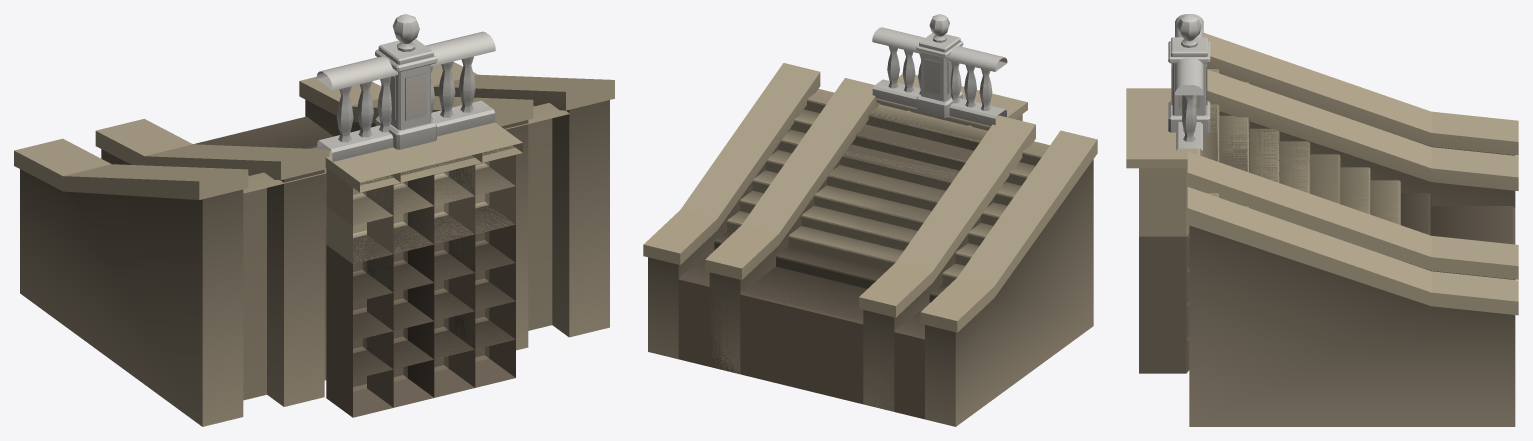
File: kit_embankment.glb
The picture shows the model from 3 angles, left to right: view 1: azimuth 30°, elevation 25°; view 2: azimuth 150°, elevation 25°; view 3: azimuth 270°, elevation 25°; orthographic projection. The views are drawn at different scales.
Visible parts, largest first — view 1: stair_flight_4m, quay_wall_2m, stair_flight_2m, quay_wall_1m, balustrade_2m, balustrade_post, balustrade_1m; view 2: stair_flight_4m, stair_flight_2m, balustrade_2m, balustrade_post, balustrade_1m, quay_wall_2m; view 3: stair_flight_4m, stair_flight_2m, quay_wall_2m, balustrade_post, balustrade_2m, quay_wall_1m.
Part boxes in pixels (<box>): stair_flight_4m: <box>14,62,614,426</box>; quay_wall_2m: <box>325,122,522,417</box>; stair_flight_2m: <box>95,77,533,406</box>; quay_wall_1m: <box>367,132,482,407</box>; balustrade_2m: <box>316,31,495,161</box>; balustrade_post: <box>375,14,437,149</box>; balustrade_1m: <box>360,41,454,151</box>; stair_flight_4m: <box>643,63,1097,426</box>; stair_flight_2m: <box>705,78,1035,411</box>; balustrade_2m: <box>872,27,1007,125</box>; balustrade_post: <box>916,14,963,117</box>; balustrade_1m: <box>903,35,974,119</box>; quay_wall_2m: <box>876,74,1027,130</box>; stair_flight_4m: <box>1187,33,1518,426</box>; stair_flight_2m: <box>1187,69,1518,279</box>; quay_wall_2m: <box>1126,88,1201,373</box>; balustrade_post: <box>1168,14,1210,133</box>; balustrade_2m: <box>1175,14,1203,150</box>; quay_wall_1m: <box>1126,106,1175,141</box>.
Bounding box in the file's own units: 5.1 × 4.26 × 4.67.
